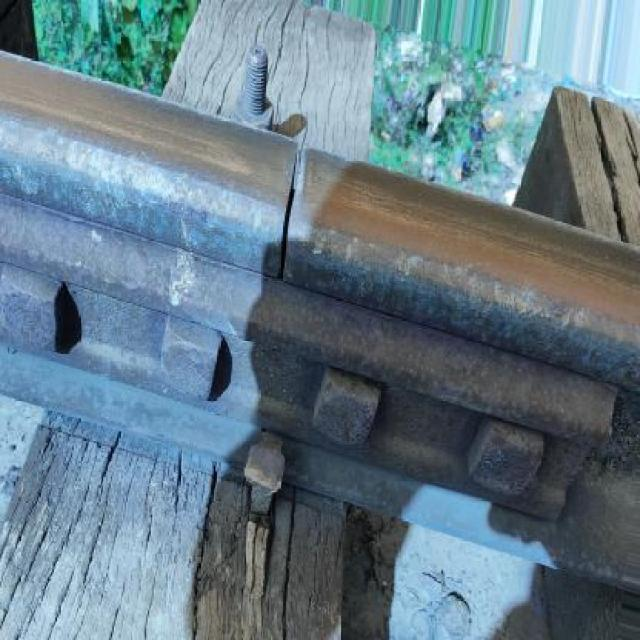defective: (237, 109, 347, 325)
